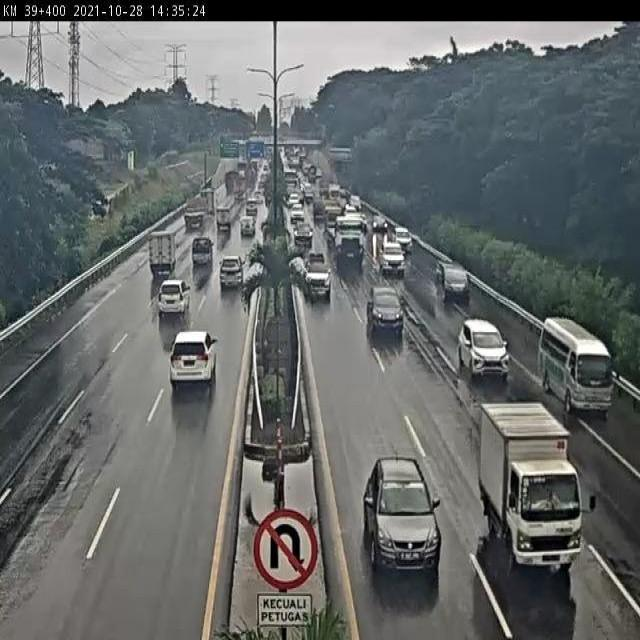big truck: (325, 212, 368, 271)
car: (360, 452, 445, 581), (457, 318, 511, 382), (169, 325, 220, 391), (366, 280, 406, 340), (433, 256, 473, 305), (304, 256, 334, 301), (158, 277, 190, 316), (217, 250, 245, 294), (380, 240, 406, 279), (190, 235, 214, 269), (391, 222, 415, 255), (291, 221, 317, 251), (236, 212, 258, 237), (371, 210, 390, 238), (289, 200, 306, 224), (243, 196, 260, 216)
small bus: (537, 312, 618, 417)
small truck: (472, 400, 596, 572), (147, 228, 175, 275)
